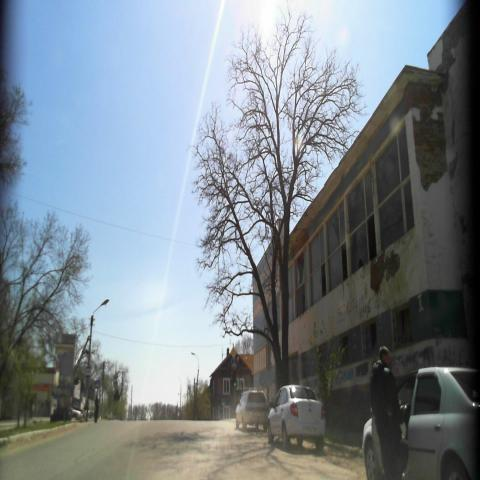2_1: (230, 344, 237, 358)
5_16: (86, 365, 92, 378)
5_19_1: (94, 377, 100, 390)
